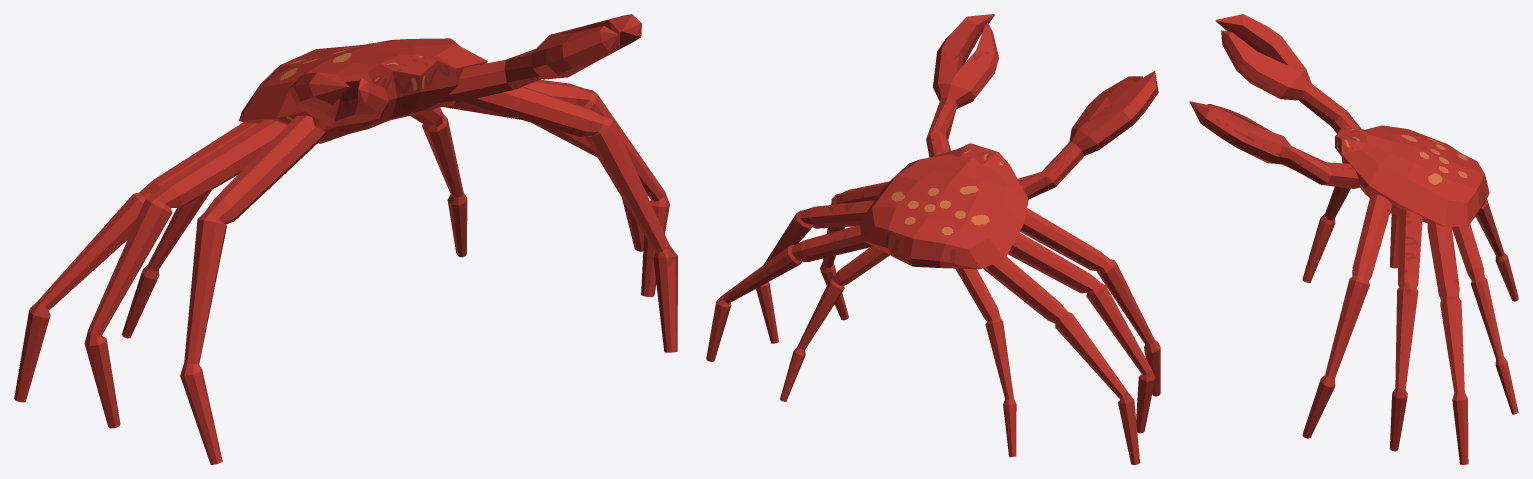
The model's file is bairdiCrab.glb.
The picture shows the model from 3 angles, left to right: view 1: azimuth 30°, elevation 25°; view 2: azimuth 150°, elevation 25°; view 3: azimuth 270°, elevation 25°; orthographic projection. The views are drawn at different scales.
Parts seen in each view (by area): view 1: Mesh; view 2: Mesh; view 3: Mesh.
Part boxes in pixels (<box>): Mesh: <box>14,14,677,464</box>; Mesh: <box>706,14,1160,464</box>; Mesh: <box>1189,14,1518,464</box>.
Size of the model in its own units: 354 by 223 by 229.
1 material, 1 textured.
